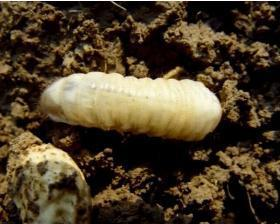grub: (37, 70, 223, 149)
